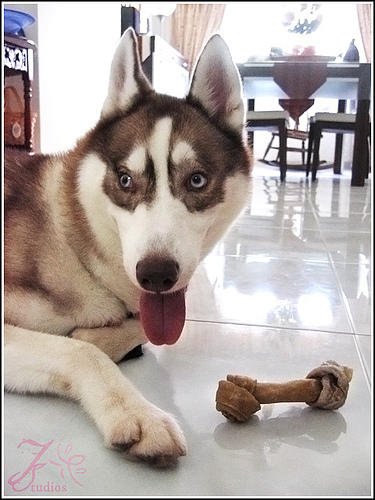dog: (3, 26, 252, 466)
